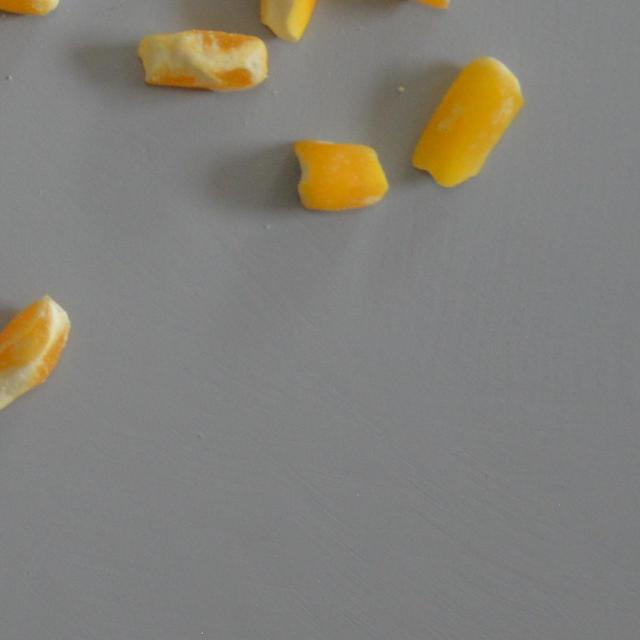dañado: (132, 20, 274, 95), (0, 290, 76, 417), (288, 132, 392, 214), (252, 0, 336, 46), (0, 0, 70, 24), (360, 0, 472, 14)
pelicula: (408, 50, 527, 192)
